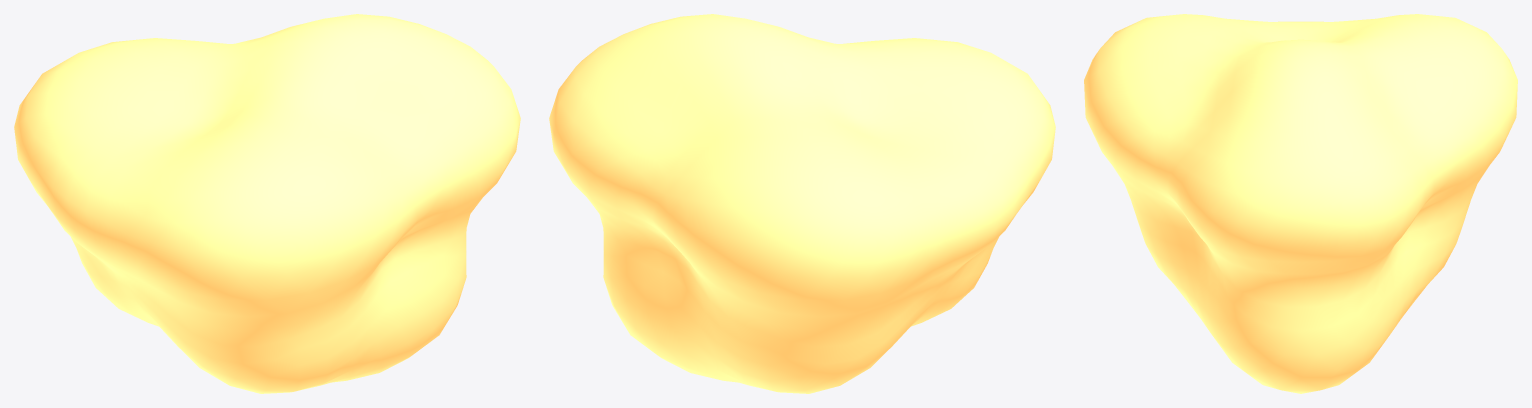
The model's file is Asteroide_Volcanico.glb.
3 views of the same model, side by side, from view 1: azimuth 30°, elevation 25°; view 2: azimuth 150°, elevation 25°; view 3: azimuth 270°, elevation 25° (orthographic). The views are drawn at different scales.
Visible parts, largest first — view 1: Icosphere; view 2: Icosphere; view 3: Icosphere.
Boxes of the visible parts, <box> form: Icosphere: <box>14,14,520,393</box>; Icosphere: <box>549,14,1055,393</box>; Icosphere: <box>1084,14,1517,393</box>.
Size of the model in its own units: 2.8 by 2.11 by 2.59.
